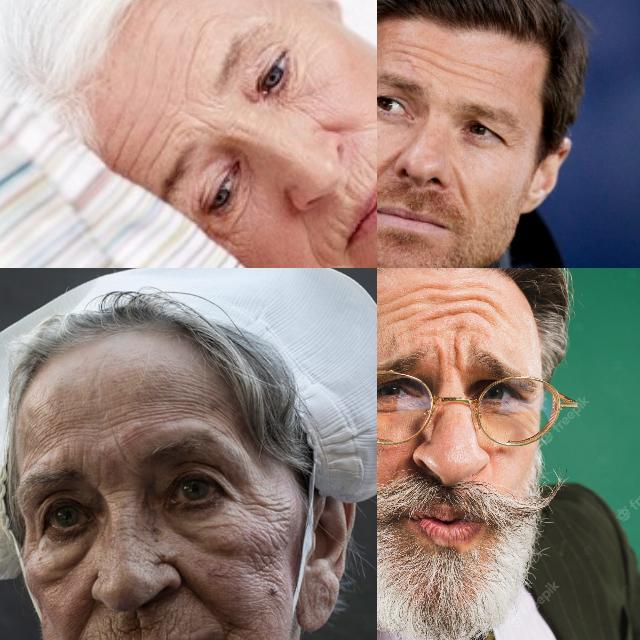bunny_line: (114, 514, 154, 548)
crows_feet: (241, 491, 285, 531)
forehead: (152, 11, 206, 83), (155, 374, 215, 426), (114, 114, 170, 166), (74, 404, 148, 428), (456, 280, 492, 322), (32, 413, 66, 453), (421, 278, 451, 322), (380, 292, 414, 328), (466, 60, 500, 90), (398, 40, 428, 72), (435, 50, 459, 86)
frown_line: (186, 108, 224, 134), (108, 429, 134, 466), (101, 478, 141, 498), (450, 342, 466, 372), (432, 344, 446, 372)
gummy_smile: (453, 172, 473, 204), (377, 153, 400, 177)
masseter: (240, 546, 286, 584)
sad_smile: (306, 250, 342, 268)
smoker_lines: (103, 616, 191, 640), (314, 208, 348, 250), (348, 150, 377, 194)
